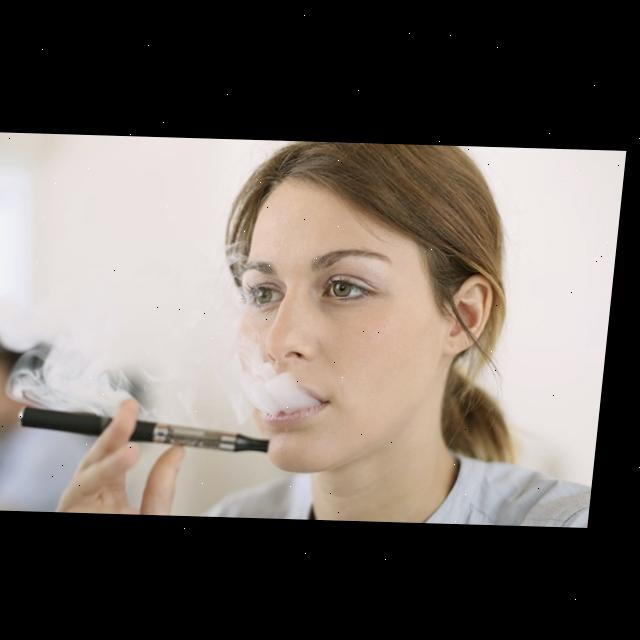vape: (27, 405, 282, 450)
